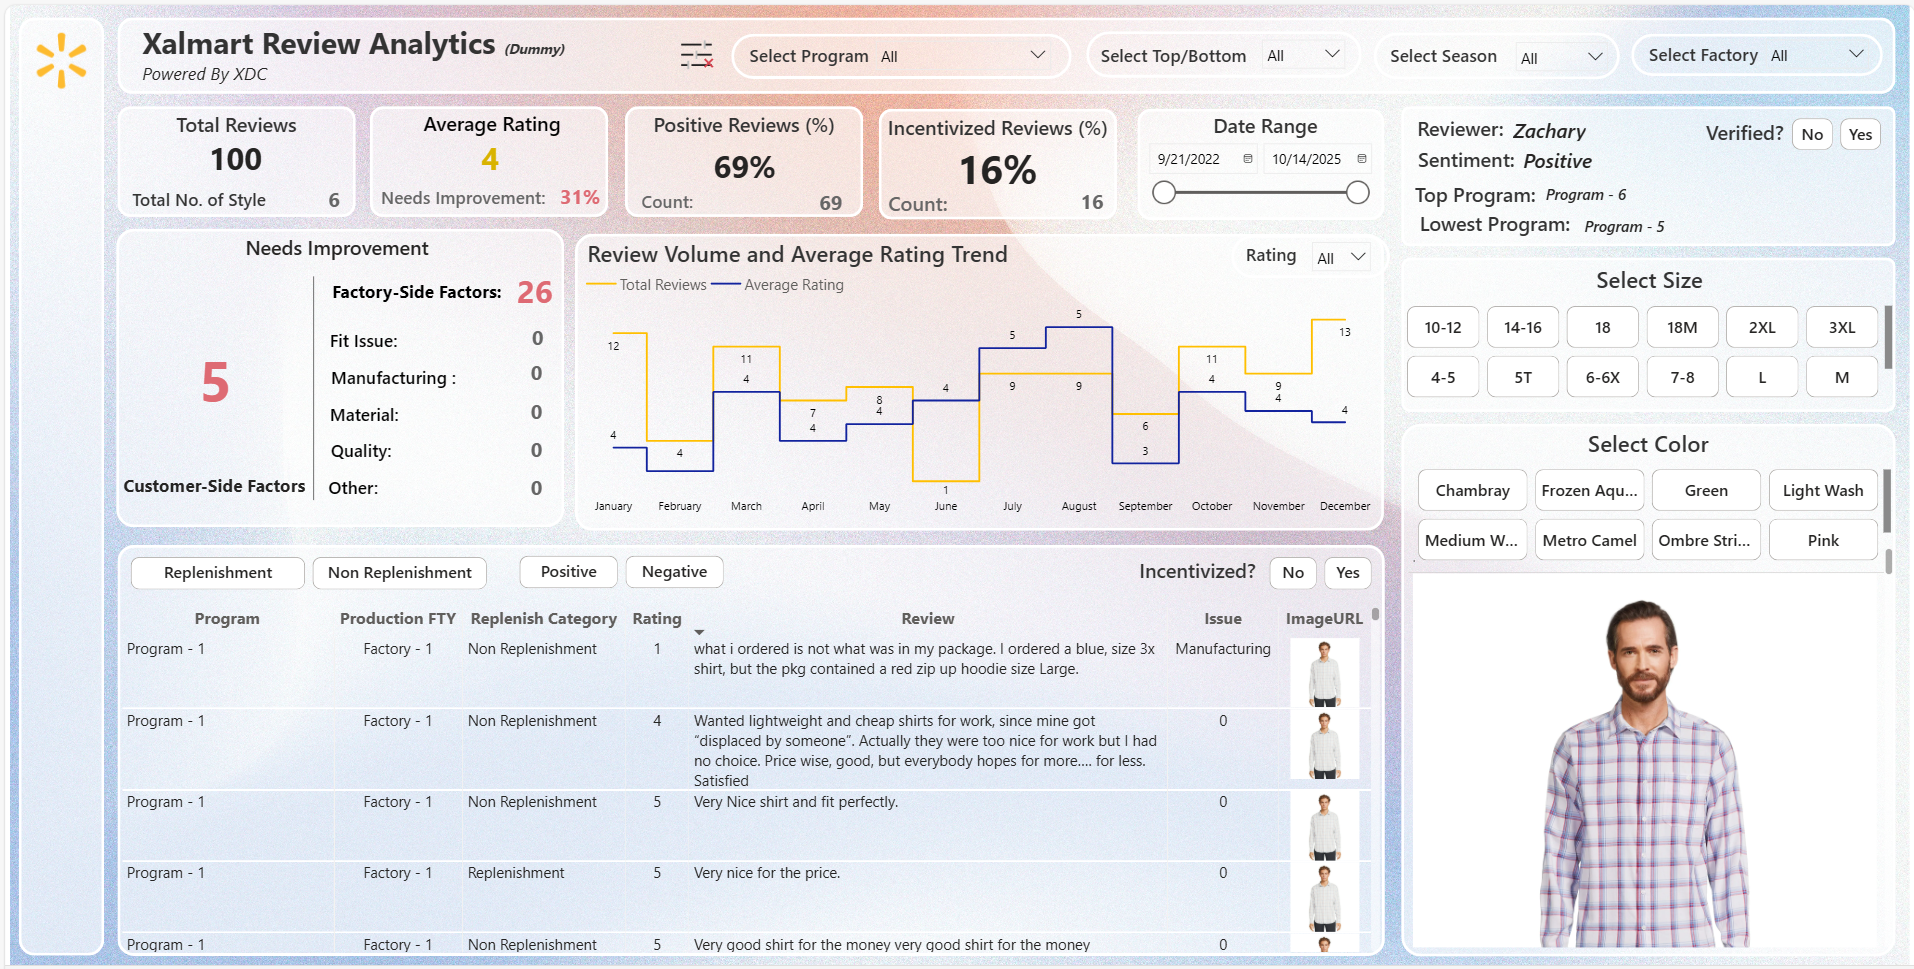

This screenshot's page, from the dashboard's own definition file:
{"tool":"powerbi","page":{"name":"Home","canvas":[2048,1035],"ordinal":0},"visuals":[{"type":"image","box":[0,0,2048.4,1038.9],"z":0},{"type":"image","box":[712.5,29.6,53.8,48],"z":0,"group":"g2"},{"type":"shape","box":[747.8,53.7,10.7,17.4],"z":0,"group":"g1"},{"type":"shape","box":[9.8,13.7,92.1,1011.5],"z":1000},{"type":"group","id":"g1","title":"Cross","box":[747.8,53.7,10.8,17.6],"z":1000,"group":"g2"},{"type":"shape","box":[747.8,53.8,10.7,17.4],"z":1000,"group":"g1"},{"type":"shape","box":[115.7,13.7,1917.1,82.3],"z":2000},{"type":"shape","box":[115.7,109.8,256.8,119.6],"z":3000},{"type":"shape","box":[388.1,109.8,256.8,119.6],"z":4000},{"type":"shape","box":[662.5,109.8,256.8,119.6],"z":5000},{"type":"shape","box":[1215.5,111.7,266.1,119.9],"z":6000},{"type":"shape","box":[937.1,111.7,256.8,119.6],"z":7000,"group":"g6"},{"type":"shape","box":[1499.5,272.5,533.2,166.6],"z":7000},{"type":"shape","box":[115,241.5,482.9,322],"z":8000},{"type":"shape","box":[609.4,246.4,872.2,320.3],"z":9000},{"type":"shape","box":[1499.5,450.8,533.2,574.3],"z":10000},{"type":"shape","box":[115.7,582.2,1366.3,443],"z":11000},{"type":"image","box":[19.6,25.5,70.6,68.6],"z":12000},{"type":"textbox","box":[129.4,109.8,229.3,62.7],"z":13000},{"type":"textbox","box":[137.1,13.7,481.7,90.1],"z":14000},{"type":"textbox","box":[662.5,109.8,256.8,62.7],"z":15000},{"type":"card","fields":{"Values":["DAX_BOX.Total Reviews"]},"box":[184.2,124.7,117.2,81.9],"z":16000},{"type":"textbox","box":[1225.2,110.1,256.8,60.8],"z":17000,"group":"g7"},{"type":"cardVisual","fields":{"Data":["DAX_BOX.Average Rating"]},"box":[444.7,122.8,147,81.9],"z":17000},{"type":"textbox","box":[937.1,111.7,256.8,62.7],"z":18000,"group":"g6"},{"type":"card","fields":{"Values":["DAX_BOX.Positive %"]},"box":[713.5,133,158.8,82.3],"z":18000},{"type":"lineChart","fields":{"Category":["Review_Data.ReviewMonth"],"Y":["DAX_BOX.Total Reviews"],"Y2":["DAX_BOX.Average Rating"]},"box":[617.6,279.2,859.1,279.2],"z":19000},{"type":"textbox","box":[617.6,246.4,865.7,73.9],"z":20000},{"type":"tableEx","fields":{"Values":["Review_Data.Program","Review_Data.ProductinFTY","Review_Data.Replenish Category","Sum(Review_Data.Rating)","Review_Data.Review","Review_Data.Issue","Bring_Image.ImageURL"]},"box":[114.9,643.8,1367,381.9],"z":21000},{"type":"tableEx","fields":{"Values":["Style_Image.ImageURL"]},"box":[1501.3,581.5,533.8,440.2],"z":22000},{"type":"card","fields":{"Values":["DAX_BOX.Incentivized %"]},"box":[986.1,135,158.8,82.3],"z":23000,"group":"g6"},{"type":"advancedSlicerVisual","fields":{"Values":["Style_Image.ColorName"]},"box":[1513.3,495.9,519.5,109.8],"z":23000},{"type":"textbox","box":[1668.1,450.8,196,45.1],"z":24000},{"type":"advancedSlicerVisual","fields":{"Values":["Review_Data.ClothingSize"]},"box":[1501.5,319.5,533.2,109.8],"z":25000},{"type":"textbox","box":[1670.1,274.4,196,45.1],"z":26000},{"type":"shape","box":[1469.8,29.6,265.3,50.5],"z":27000,"group":"g8"},{"type":"shape","box":[1499.5,109.8,533.2,150.9],"z":27000},{"type":"card","fields":{"Values":["Max(Review_Data.RatingGroup)"]},"box":[1611.3,147,113.7,45.1],"z":28000},{"type":"textbox","box":[1493.7,113.7,141.1,52.9],"z":29000},{"type":"cardVisual","fields":{"Data":["Max(Review_Data.Reviewer)"]},"box":[1591.7,103.9,237.2,60.8],"z":30000},{"type":"textbox","box":[1505.4,147,129.4,60.8],"z":31000},{"type":"cardVisual","fields":{"Data":["DAX_BOX.Top Program"]},"box":[1627,174.5,397.9,58.8],"z":32000},{"type":"textbox","box":[1501.5,184.3,156.8,45.1],"z":33000},{"type":"cardVisual","fields":{"Data":["DAX_BOX.Bottom Program"]},"box":[1668.9,207.7,356.2,59.1],"z":34000},{"type":"textbox","box":[1505.2,215.2,191,59.1],"z":35000},{"type":"shape","box":[1161,28.1,297.1,50],"z":36000,"group":"g9"},{"type":"group","id":"g2","title":"Group 11","box":[712.5,29.6,54.6,48.5],"z":36000},{"type":"slicer","fields":{"Values":["Review_Data.Top/Bottom"]},"box":[1340.2,26.3,109.8,51.4],"z":37000,"group":"g9"},{"type":"actionButton","box":[711.2,29.6,54.2,50.9],"z":37000},{"type":"slicer","fields":{"Values":["Review_Data.Season"]},"box":[1612.7,30.1,119.9,52.6],"z":37000,"group":"g8"},{"type":"textbox","box":[1164.8,35.2,180.7,46.1],"z":38000,"group":"g9"},{"type":"textbox","box":[1473.5,36.8,142.9,46],"z":38000,"group":"g8"},{"type":"advancedSlicerVisual","fields":{"Values":["Review_Data.RatingGroup"]},"box":[544.4,589.5,231.1,45],"z":38000},{"type":"advancedSlicerVisual","fields":{"Values":["Review_Data.IsIncentivized"]},"box":[1353.6,589.6,121.3,45.5],"z":39000},{"type":"textbox","box":[1208.1,589.6,145.5,60.6],"z":40000},{"type":"advancedSlicerVisual","fields":{"Values":["Review_Data.IsVerified"]},"box":[1916.2,117.6,107.5,44.6],"z":41000},{"type":"textbox","box":[1808.7,117.6,123.7,60.8],"z":42000},{"type":"shape","box":[1747.7,31.8,271.3,45.5],"z":43000,"group":"g3"},{"type":"card","fields":{"Values":["DAX_BOX.Positive Reviews (Count)"]},"box":[843.2,197.7,82.8,33.8],"z":43000},{"type":"shape","box":[1316.4,248,171.2,46.5],"z":43000,"group":"g4"},{"type":"slicer","fields":{"Values":["Review_Data.ProductinFTY"]},"box":[1882.6,27.3,131.9,51.5],"z":44000,"group":"g3"},{"type":"textbox","box":[662.4,194.3,91.2,60.8],"z":44000},{"type":"slicer","fields":{"Values":["Review_Data.Rating"]},"box":[1392.7,245.5,83.7,50.2],"z":44000,"group":"g4"},{"type":"textbox","box":[1735.6,34.9,180.4,42.4],"z":45000,"group":"g3"},{"type":"card","fields":{"Values":["DAX_BOX.Negative %"]},"box":[573,191.6,83.7,33.5],"z":45000},{"type":"textbox","box":[1298.9,251.3,121.6,46],"z":45000,"group":"g4"},{"type":"textbox","box":[394.4,189.8,219.5,48.4],"z":46000},{"type":"textbox","box":[126.5,191.6,171.2,50.2],"z":47000},{"type":"card","fields":{"Values":["DAX_BOX.No. of Programs"]},"box":[308.8,193.5,81.9,33.5],"z":48000},{"type":"textbox","box":[403.7,107.9,230.7,40.9],"z":49000},{"type":"textbox","box":[243.1,241.5,220.1,49.3],"z":50000},{"type":"shape","box":[778.2,29.9,367,48.7],"z":51000,"group":"g5"},{"type":"shape","box":[302.2,292.4,50.9,241.5],"z":51000},{"type":"slicer","fields":{"Values":["Review_Data.Program"]},"box":[924.2,27.9,208.9,54.7],"z":52000,"group":"g5"},{"type":"textbox","box":[103.2,500.6,219.6,46.1],"z":52000},{"type":"textbox","box":[778.2,36,168.3,46.6],"z":53000,"group":"g5"},{"type":"card","fields":{"Values":["DAX_BOX.Negative Reviews (Count)"]},"box":[145.1,341.6,152.7,120.9],"z":53000},{"type":"group","id":"g3","title":"Group 1","box":[1735.6,27.3,283.5,51.5],"z":54000},{"type":"group","id":"g4","title":"Group 1","box":[1298.9,245.5,188.7,51.8],"z":55000},{"type":"group","id":"g5","title":"Group 2","box":[778.2,27.9,367,54.7],"z":56000},{"type":"textbox","box":[343.6,291.2,206.4,52.7],"z":56000,"group":"g10"},{"type":"card","fields":{"Values":["DAX_BOX.Negative Reviews (Count)"]},"box":[525.5,288.7,83.4,41.7],"z":57000,"group":"g10"},{"type":"advancedSlicerVisual","fields":{"Values":["Review_Data.Replenish Category"]},"box":[124.8,589.7,395.9,46],"z":57000},{"type":"group","id":"g6","title":"Group 3","box":[933,111.7,276,142.9],"z":58000},{"type":"textbox","box":[340.8,343.5,134,48.4],"z":58000,"group":"g10"},{"type":"group","id":"g7","title":"Group 4","box":[1225.2,110.1,256.8,60.8],"z":59000},{"type":"card","fields":{"Values":["DAX_BOX.Total Reviews"]},"box":[1125.2,196.5,82.7,34.1],"z":59000,"group":"g6"},{"type":"textbox","box":[341.1,384.8,158.1,48.4],"z":59000,"group":"g10"},{"type":"slicer","fields":{"Values":["Review_Data.Date"]},"box":[1216.1,139,258.5,103.8],"z":60000},{"type":"textbox","box":[933,194.1,92.4,60.8],"z":60000,"group":"g6"},{"type":"textbox","box":[340.8,423.5,134,48.4],"z":60000,"group":"g10"},{"type":"htmlContent443BE3AD55E043BF878BED274D3A6855","fields":{"content":["DAX_BOX.HTML_Tip_Card"]},"box":[1503,172.5,545.3,126.5],"z":61000},{"type":"textbox","box":[341.5,462.1,158.7,49],"z":61000,"group":"g10"},{"type":"group","id":"g8","title":"Group 5","box":[1469.8,29.6,265.3,53.2],"z":62000},{"type":"textbox","box":[338.9,503.5,134,48.4],"z":62000,"group":"g10"},{"type":"group","id":"g9","title":"Group 6","box":[1161,26.3,297.1,54.9],"z":63000},{"type":"group","id":"g10","title":"Group 7","box":[338.9,288.7,272,263.1],"z":64000},{"type":"card","fields":{"Values":["DAX_BOX.Negative Reviews (Count)"]},"box":[529,343.8,81.9,33.5],"z":64000,"group":"g10"},{"type":"card","fields":{"Values":["DAX_BOX.Negative Reviews (Count)"]},"box":[527.2,381.1,81.9,33.5],"z":65000,"group":"g10"},{"type":"card","fields":{"Values":["DAX_BOX.Negative Reviews (Count)"]},"box":[527.2,423.8,81.9,33.5],"z":66000,"group":"g10"},{"type":"card","fields":{"Values":["DAX_BOX.Swing Dummy"]},"box":[528.1,464.4,81.7,35],"z":67000,"group":"g10"},{"type":"card","fields":{"Values":["DAX_BOX.Negative Reviews (Count)"]},"box":[528.1,504.1,81.7,35],"z":68000,"group":"g10"}]}

Visuals, with their boxes in screenshot pixels (x1, y1, x2, y2), scaled from the page's 2048x1035 canvas onto the 1914x969 screenshot:
image: (0, 0, 1913, 968)
image: (666, 28, 716, 73)
shape: (699, 50, 709, 67)
shape: (9, 13, 95, 960)
"Cross" group: (699, 50, 709, 67)
shape: (699, 50, 709, 67)
shape: (108, 13, 1900, 90)
shape: (108, 103, 348, 215)
shape: (363, 103, 603, 215)
shape: (619, 103, 859, 215)
shape: (1136, 105, 1385, 217)
shape: (876, 105, 1116, 217)
shape: (1401, 255, 1900, 411)
shape: (107, 226, 559, 528)
shape: (570, 231, 1385, 531)
shape: (1401, 422, 1900, 960)
shape: (108, 545, 1385, 960)
image: (18, 24, 84, 88)
textbox: (121, 103, 335, 162)
textbox: (128, 13, 578, 97)
textbox: (619, 103, 859, 162)
card - DAX_BOX.Total Reviews: (172, 117, 282, 193)
textbox: (1145, 103, 1385, 160)
cardVisual - DAX_BOX.Average Rating: (416, 115, 553, 192)
textbox: (876, 105, 1116, 163)
card - DAX_BOX.Positive %: (667, 125, 815, 202)
lineChart - Review_Data.ReviewMonth x DAX_BOX.Total Reviews: (577, 261, 1380, 523)
textbox: (577, 231, 1386, 300)
tableEx - Review_Data.Program x Review_Data.ProductinFTY: (107, 603, 1385, 960)
tableEx - Style_Image.ImageURL: (1403, 544, 1902, 957)
card - DAX_BOX.Incentivized %: (922, 126, 1070, 203)
advancedSlicerVisual - Style_Image.ColorName: (1414, 464, 1900, 567)
textbox: (1559, 422, 1742, 464)
advancedSlicerVisual - Review_Data.ClothingSize: (1403, 299, 1902, 402)
textbox: (1561, 257, 1744, 299)
shape: (1374, 28, 1622, 75)
shape: (1401, 103, 1900, 244)
card - Max(Review_Data.RatingGroup): (1506, 138, 1612, 180)
textbox: (1396, 106, 1528, 156)
cardVisual - Max(Review_Data.Reviewer): (1488, 97, 1709, 154)
textbox: (1407, 138, 1528, 195)
cardVisual - DAX_BOX.Top Program: (1521, 163, 1892, 218)
textbox: (1403, 173, 1550, 215)
cardVisual - DAX_BOX.Bottom Program: (1560, 194, 1893, 250)
textbox: (1407, 201, 1585, 257)
shape: (1085, 26, 1363, 73)
"Group 11" group: (666, 28, 717, 73)
slicer - Review_Data.Top/Bottom: (1253, 25, 1355, 73)
actionButton: (665, 28, 715, 75)
slicer - Review_Data.Season: (1507, 28, 1619, 77)
textbox: (1089, 33, 1257, 76)
textbox: (1377, 34, 1511, 78)
advancedSlicerVisual - Review_Data.RatingGroup: (509, 552, 725, 594)
advancedSlicerVisual - Review_Data.IsIncentivized: (1265, 552, 1378, 595)
textbox: (1129, 552, 1265, 609)
advancedSlicerVisual - Review_Data.IsVerified: (1791, 110, 1891, 152)
textbox: (1690, 110, 1806, 167)
shape: (1633, 30, 1887, 72)
card - DAX_BOX.Positive Reviews (Count): (788, 185, 865, 217)
shape: (1230, 232, 1390, 276)
slicer - Review_Data.ProductinFTY: (1759, 26, 1883, 74)
textbox: (619, 182, 704, 239)
slicer - Review_Data.Rating: (1302, 230, 1380, 277)
textbox: (1622, 33, 1791, 72)
card - DAX_BOX.Negative %: (536, 179, 614, 211)
textbox: (1214, 235, 1328, 278)
textbox: (369, 178, 574, 223)
textbox: (118, 179, 278, 226)
card - DAX_BOX.No. of Programs: (289, 181, 365, 213)
textbox: (377, 101, 593, 139)
textbox: (227, 226, 433, 272)
shape: (727, 28, 1070, 74)
shape: (282, 274, 330, 500)
slicer - Review_Data.Program: (864, 26, 1059, 77)
textbox: (96, 469, 302, 512)
textbox: (727, 34, 885, 77)
card - DAX_BOX.Negative Reviews (Count): (136, 320, 278, 433)
"Group 1" group: (1622, 26, 1887, 74)
"Group 1" group: (1214, 230, 1390, 278)
"Group 2" group: (727, 26, 1070, 77)
textbox: (321, 273, 514, 322)
card - DAX_BOX.Negative Reviews (Count): (491, 270, 569, 309)
advancedSlicerVisual - Review_Data.Replenish Category: (117, 552, 487, 595)
"Group 3" group: (872, 105, 1130, 238)
textbox: (319, 322, 444, 367)
"Group 4" group: (1145, 103, 1385, 160)
card - DAX_BOX.Total Reviews: (1052, 184, 1129, 216)
textbox: (319, 360, 467, 406)
slicer - Review_Data.Date: (1137, 130, 1378, 227)
textbox: (872, 182, 958, 239)
textbox: (319, 396, 444, 442)
htmlContent443BE3AD55E043BF878BED274D3A6855 - DAX_BOX.HTML_Tip_Card: (1405, 162, 1913, 280)
textbox: (319, 433, 467, 479)
"Group 5" group: (1374, 28, 1622, 78)
textbox: (317, 471, 442, 517)
"Group 6" group: (1085, 25, 1363, 76)
"Group 7" group: (317, 270, 571, 517)
card - DAX_BOX.Negative Reviews (Count): (494, 322, 571, 353)
card - DAX_BOX.Negative Reviews (Count): (493, 357, 569, 388)
card - DAX_BOX.Negative Reviews (Count): (493, 397, 569, 428)
card - DAX_BOX.Swing Dummy: (494, 435, 570, 468)
card - DAX_BOX.Negative Reviews (Count): (494, 472, 570, 505)
